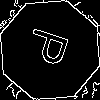P: (25, 25, 79, 71)
